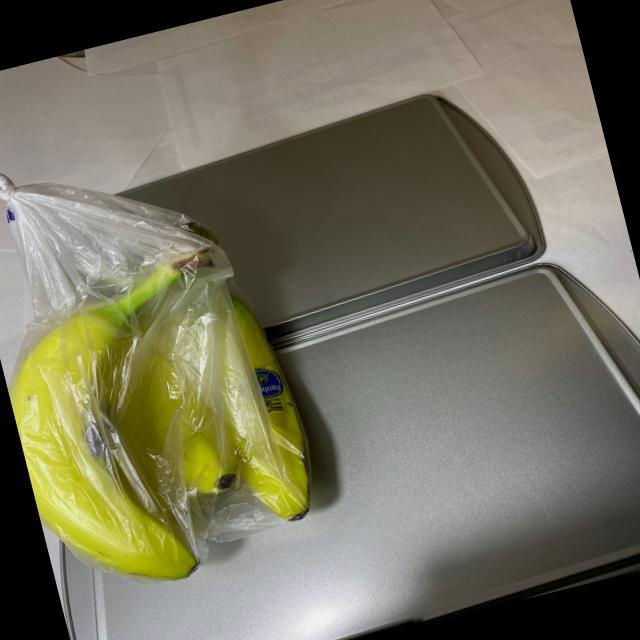banana: (0, 195, 346, 613)
